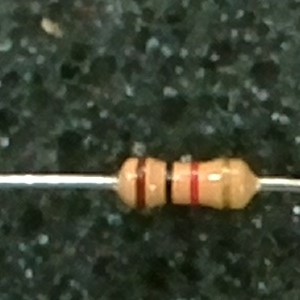black_band: (164, 158, 173, 207)
brown_band: (134, 154, 147, 213)
gold_band: (220, 155, 233, 213)
red_band: (189, 159, 201, 209)
